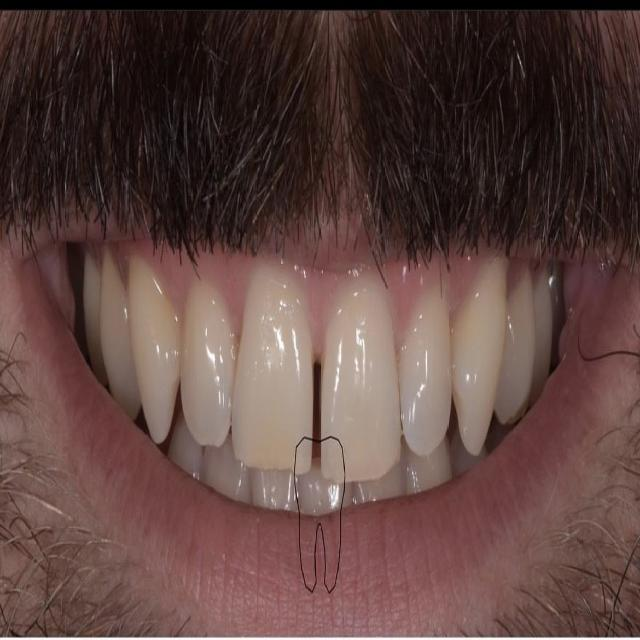tooth: (228, 279, 317, 480), (318, 302, 401, 480), (178, 271, 236, 454), (129, 274, 180, 438), (454, 294, 502, 443), (406, 322, 449, 452), (502, 288, 546, 410), (102, 250, 136, 402)
